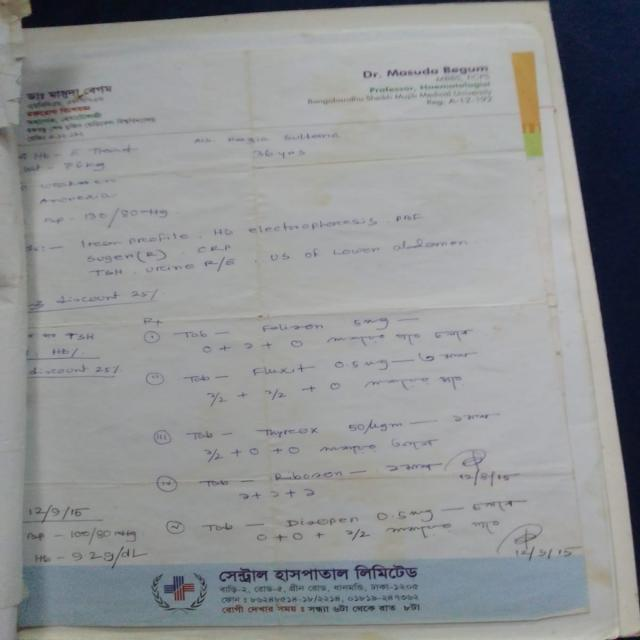Disopen: (282, 515, 365, 532)
Fluxit: (246, 364, 311, 380)
Folison: (250, 315, 328, 335)
Riboson: (269, 464, 345, 486)
Thyrox: (259, 425, 322, 442)
